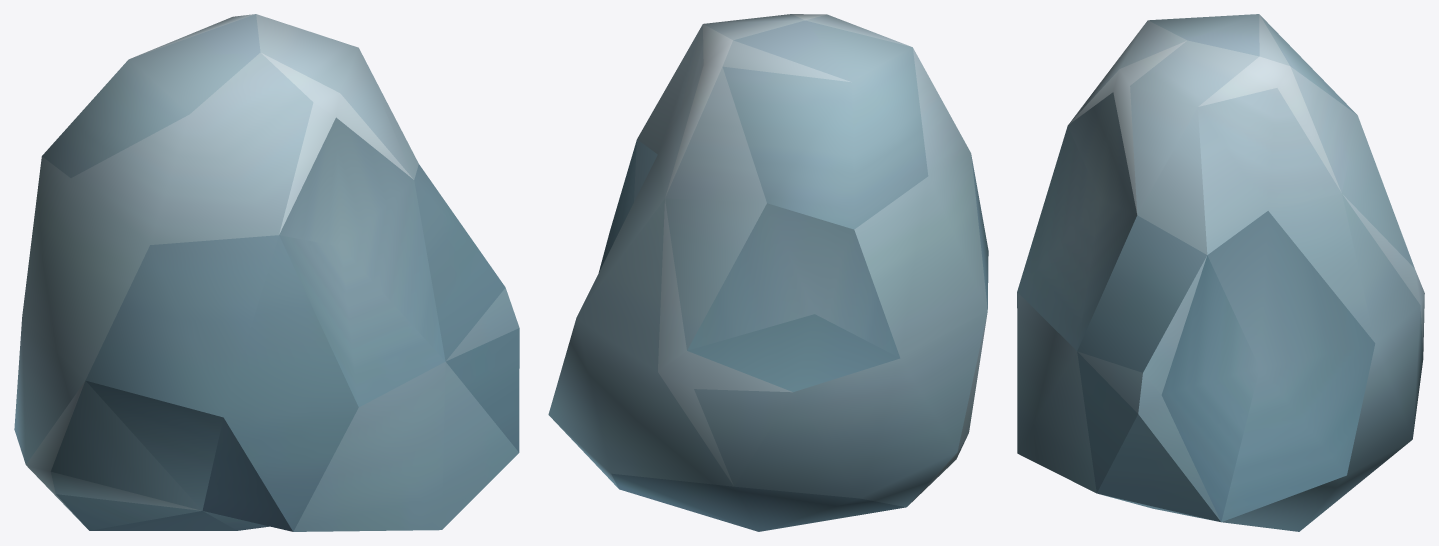
File: silver_nugget_large.glb
3 renders of one model, left to right at view 1: azimuth 30°, elevation 25°; view 2: azimuth 150°, elevation 25°; view 3: azimuth 270°, elevation 25°, orthographic. The views are drawn at different scales.
Visible parts, largest first — view 1: Silver_Nugget_Large; view 2: Silver_Nugget_Large; view 3: Silver_Nugget_Large.
Part boxes in pixels (box(x1,y1,x2,y2)): Silver_Nugget_Large: box(14, 14, 519, 531); Silver_Nugget_Large: box(548, 14, 988, 531); Silver_Nugget_Large: box(1017, 14, 1424, 531).
Size of the model in its own units: 0.4271 by 0.4656 by 0.3947.
Materials: 1 (1 with a texture image).
